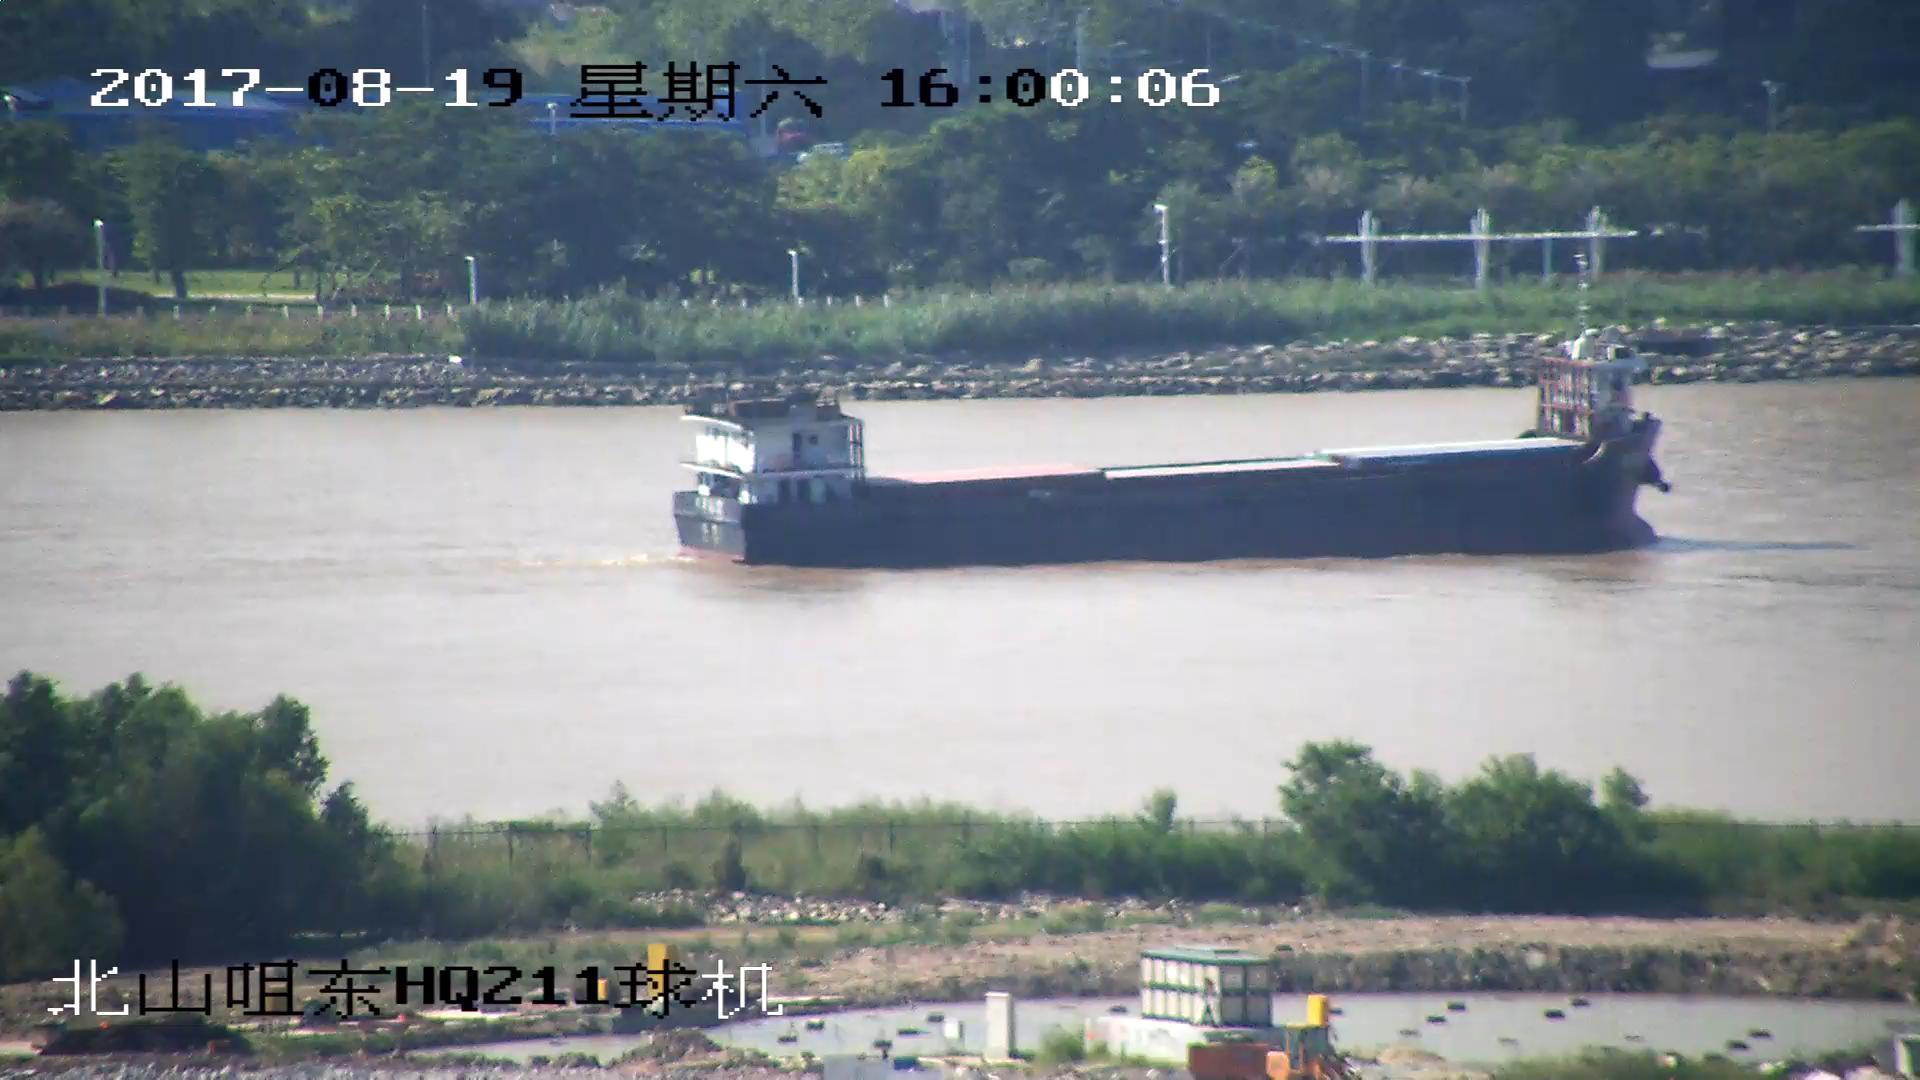Ship: (673, 316, 1675, 567)
